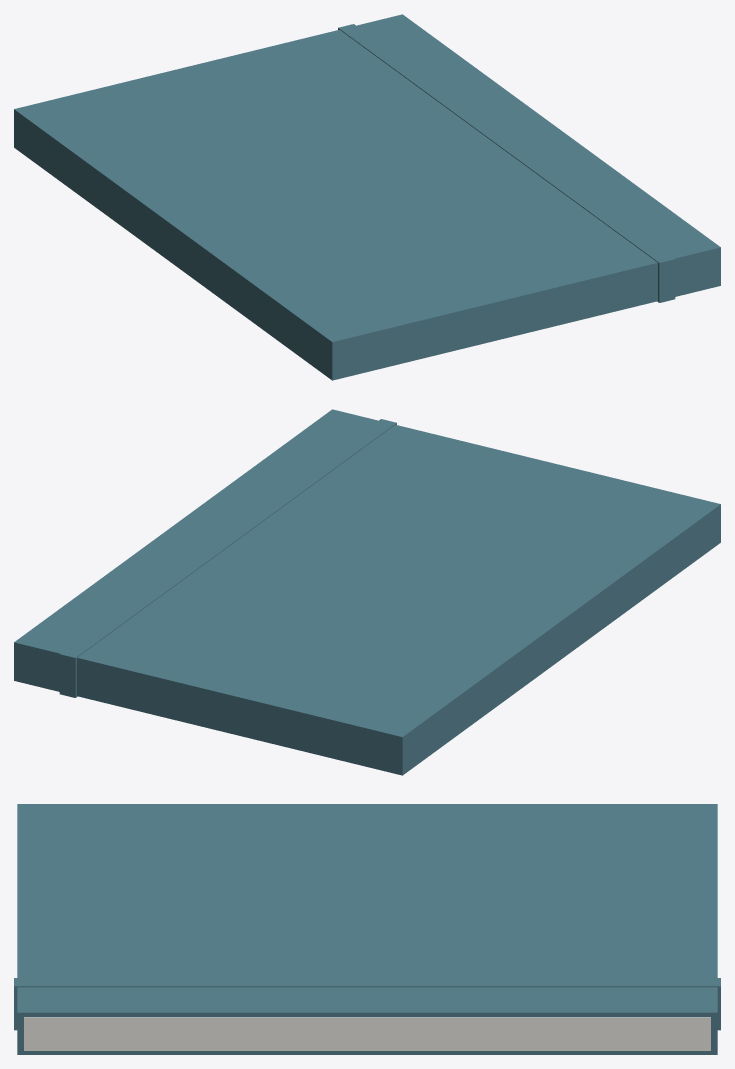
3 views of the same model, one above another, from view 1: azimuth 30°, elevation 25°; view 2: azimuth 150°, elevation 25°; view 3: azimuth 270°, elevation 25° (orthographic). The views are drawn at different scales.
Visible parts, largest first — view 1: Notebook, A5; view 2: Notebook, A5; view 3: Notebook, A5.
Part boxes in pixels (x1=…): Notebook, A5: x1=14, y1=14, x2=720, y2=380; Notebook, A5: x1=14, y1=409, x2=720, y2=775; Notebook, A5: x1=14, y1=804, x2=720, y2=1054.
Size of the model in its own units: 0.1485 by 0.0146 by 0.212.
